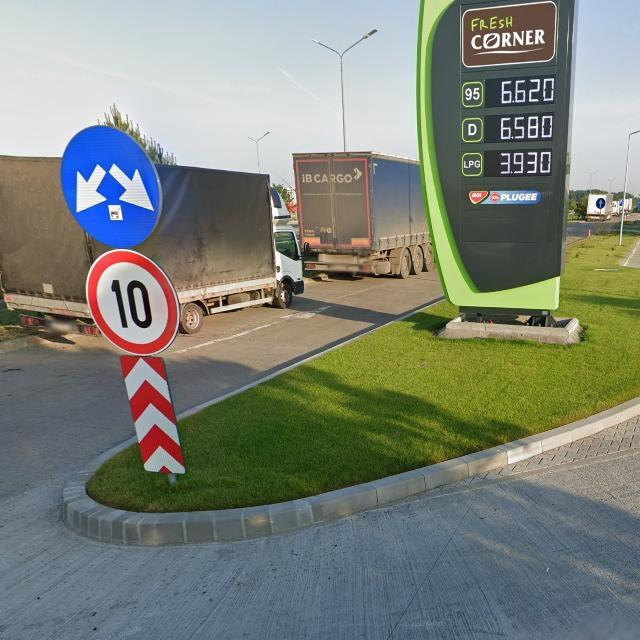forb_speed_over_10: (84, 249, 182, 358)
